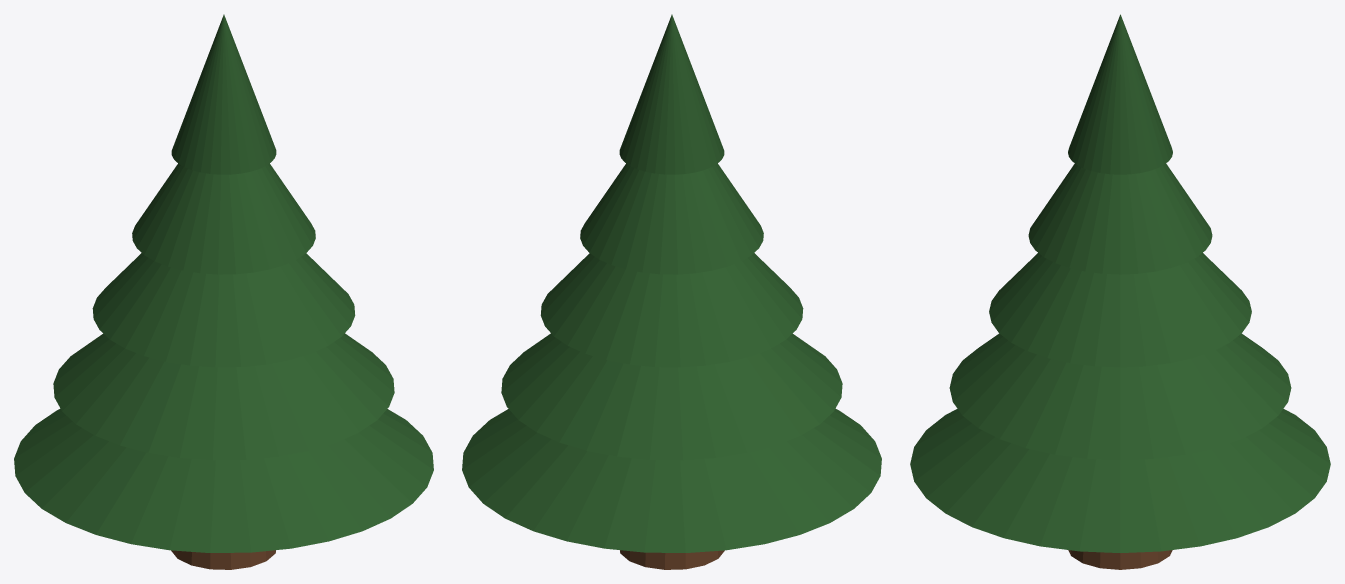
File: obstacle_tree_2.fbx
The picture shows the model from 3 angles, left to right: view 1: azimuth 30°, elevation 25°; view 2: azimuth 150°, elevation 25°; view 3: azimuth 270°, elevation 25°; orthographic projection.
Parts seen in each view (by area): view 1: Cylinder; view 2: Cylinder; view 3: Cylinder.
Boxes of the visible parts, box(x1,y1,x2,y2) form: Cylinder: box(14, 14, 433, 569); Cylinder: box(462, 14, 881, 569); Cylinder: box(910, 14, 1330, 569).
Bounding box in the file's own units: 550 × 770 × 550.
